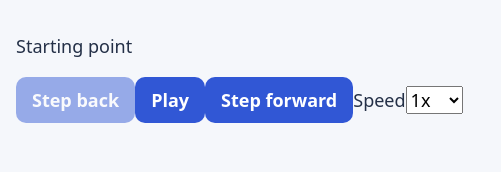
Test case: AnimationStage › steps forward through the full push/pop/peek sequence
What coordinates should you click on to do the following:
click the button "Step forward"
I would click on:
 (279, 100)
Its box is [205,77,353,123].
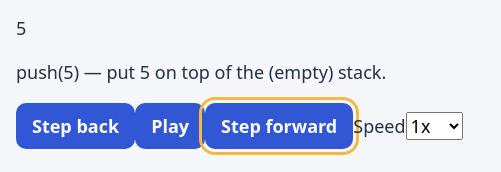
Expected: the text with test id "frame" reads "5", [16,16,26,40]
What coordinates should you click on to do the following:
click the button "Step forward"
I would click on:
 (279, 126)
Its box is [205,103,353,149].
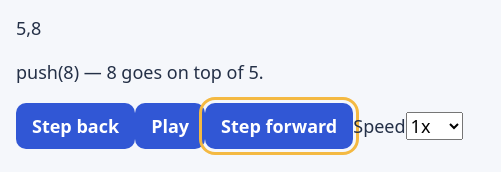
Expected: the text with test id "frame" reads "5,8", [16,16,41,40]
What coordinates should you click on to do the following:
click the button "Step forward"
I would click on:
 (279, 126)
Its box is [205,103,353,149].
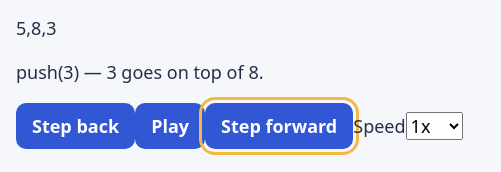
Expected: the text with test id "frame" reads "5,8,3", [16,16,56,40]
What coordinates should you click on to do the following:
click the button "Step forward"
I would click on:
 (279, 126)
Its box is [205,103,353,149].
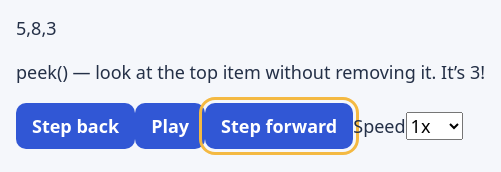
Expected: the text with test id "frame" reads "5,8,3", [16,16,56,40]
What coordinates should you click on to do the following:
click the button "Step forward"
I would click on:
 (279, 126)
Its box is [205,103,353,149].
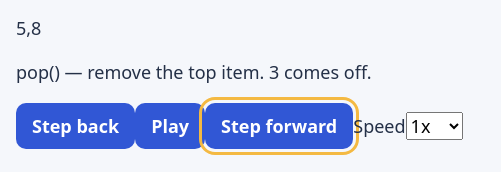
Expected: the text with test id "frame" reads "5,8", [16,16,41,40]
What coordinates should you click on to do the following:
click the button "Step forward"
I would click on:
 (279, 126)
Its box is [205,103,353,149].
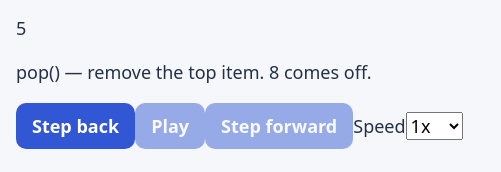
Expected: the text with test id "frame" reads "5", [16,16,26,40]
Expected: the text "pop() — remove the top item. 8 comes off." is shown, [16,60,372,84]
